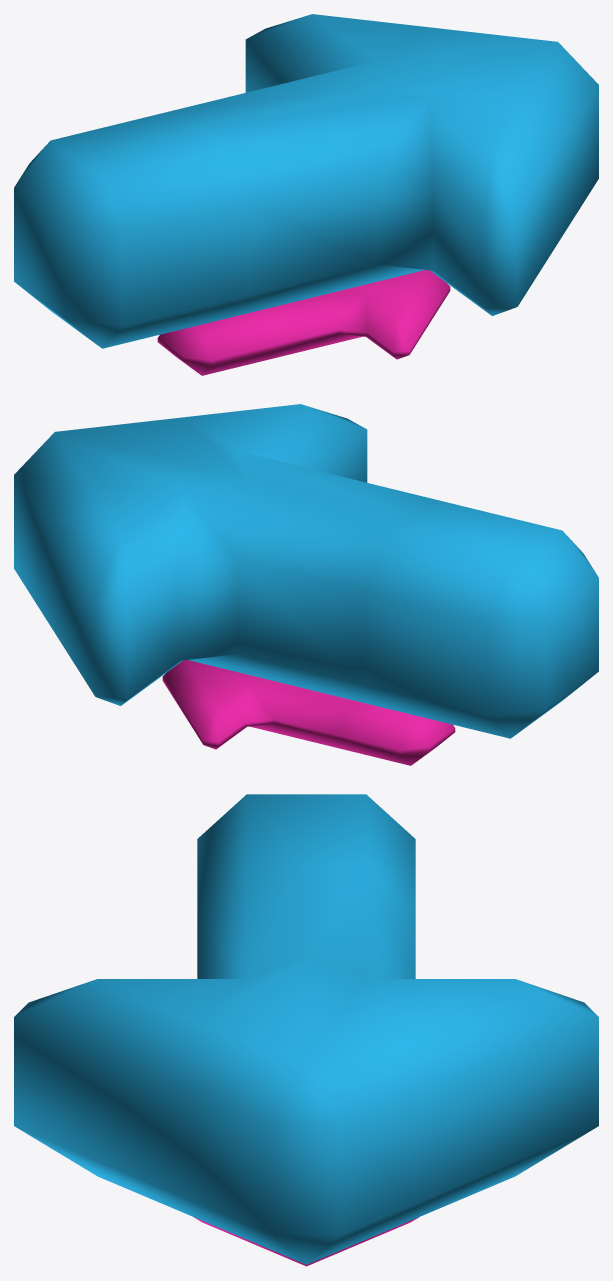
The model's file is nav.glb.
The picture shows the model from 3 angles, top to bottom: view 1: azimuth 30°, elevation 25°; view 2: azimuth 150°, elevation 25°; view 3: azimuth 270°, elevation 25°; orthographic projection. The views are drawn at different scales.
Parts seen in each view (by area): view 1: Cube, Cube.001; view 2: Cube, Cube.001; view 3: Cube.
Part boxes in pixels (bbox=[...]): Cube: bbox=[14, 14, 598, 348]; Cube.001: bbox=[157, 270, 450, 375]; Cube: bbox=[14, 404, 598, 738]; Cube.001: bbox=[162, 660, 455, 765]; Cube: bbox=[14, 794, 598, 1264].
Size of the model in its own units: 2.23 by 0.9174 by 1.79.
